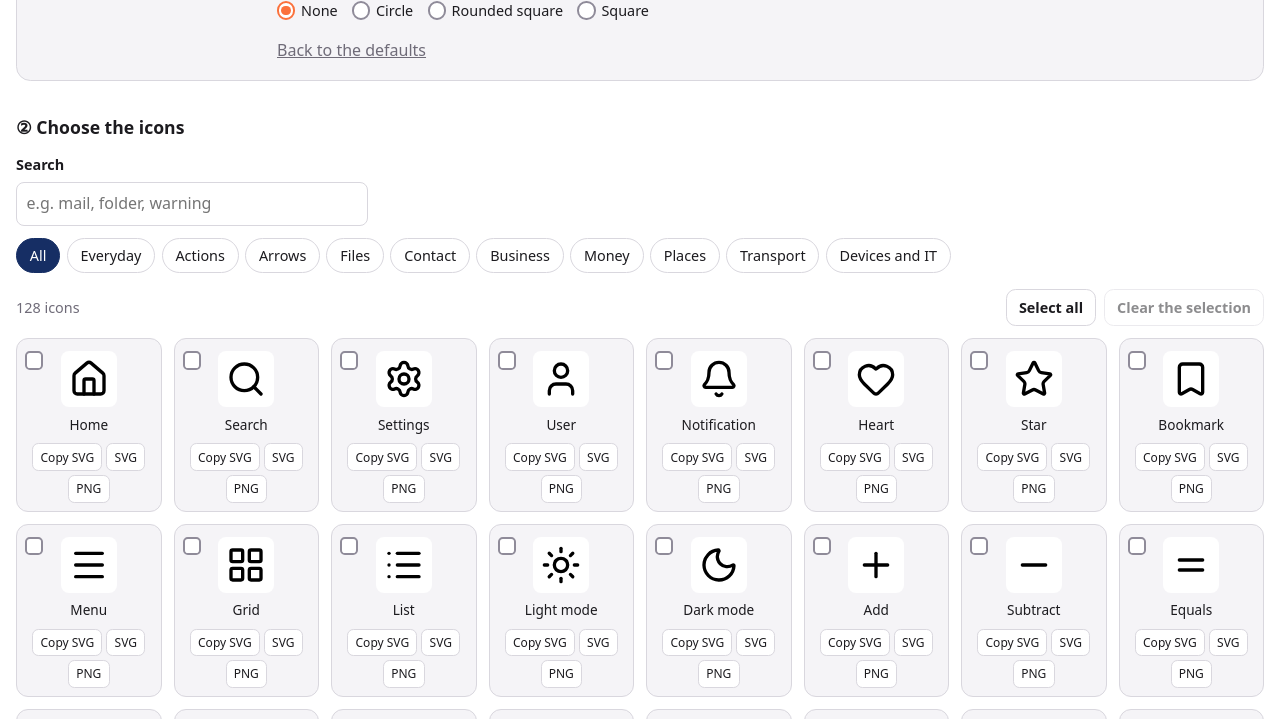
it: IconGeneratorTool › blocks the export when neither format is ticked
(page scrolled)
Click the checkbox labelled "Home" at (34, 360), box [25,351,43,370]
(page scrolled)
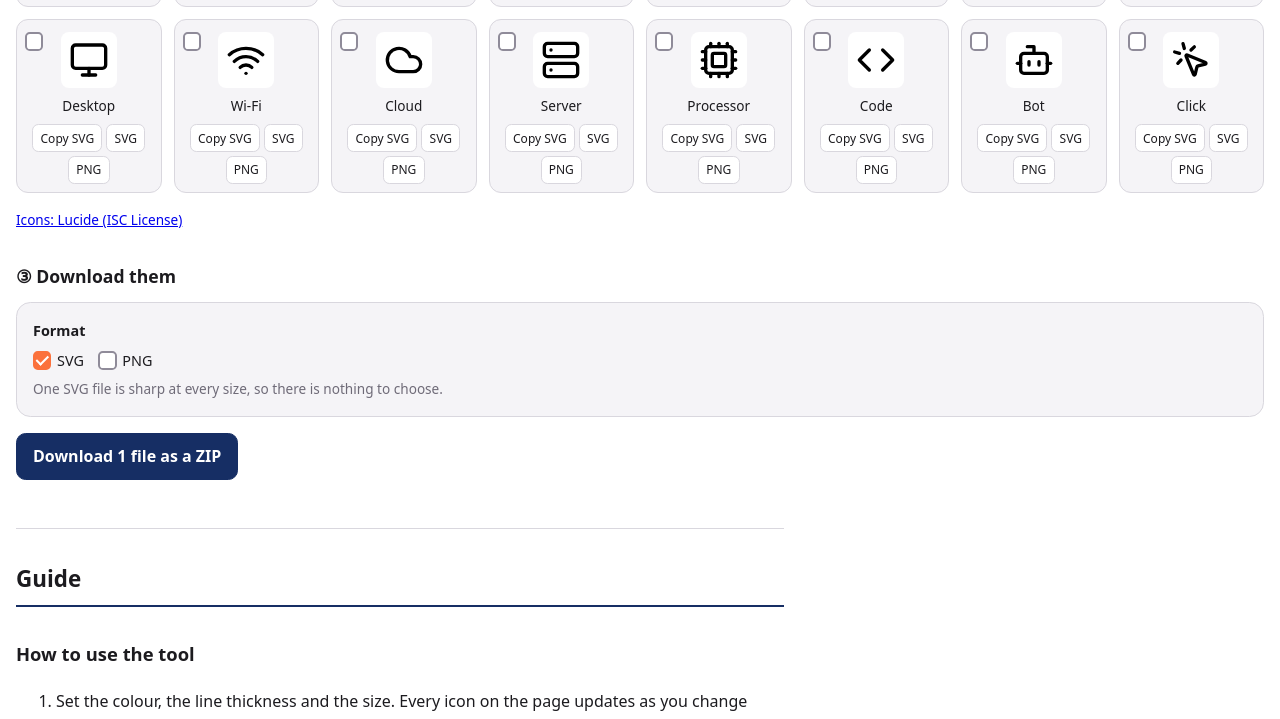
Click the checkbox labelled "SVG" at (42, 360), box [33,351,51,370]
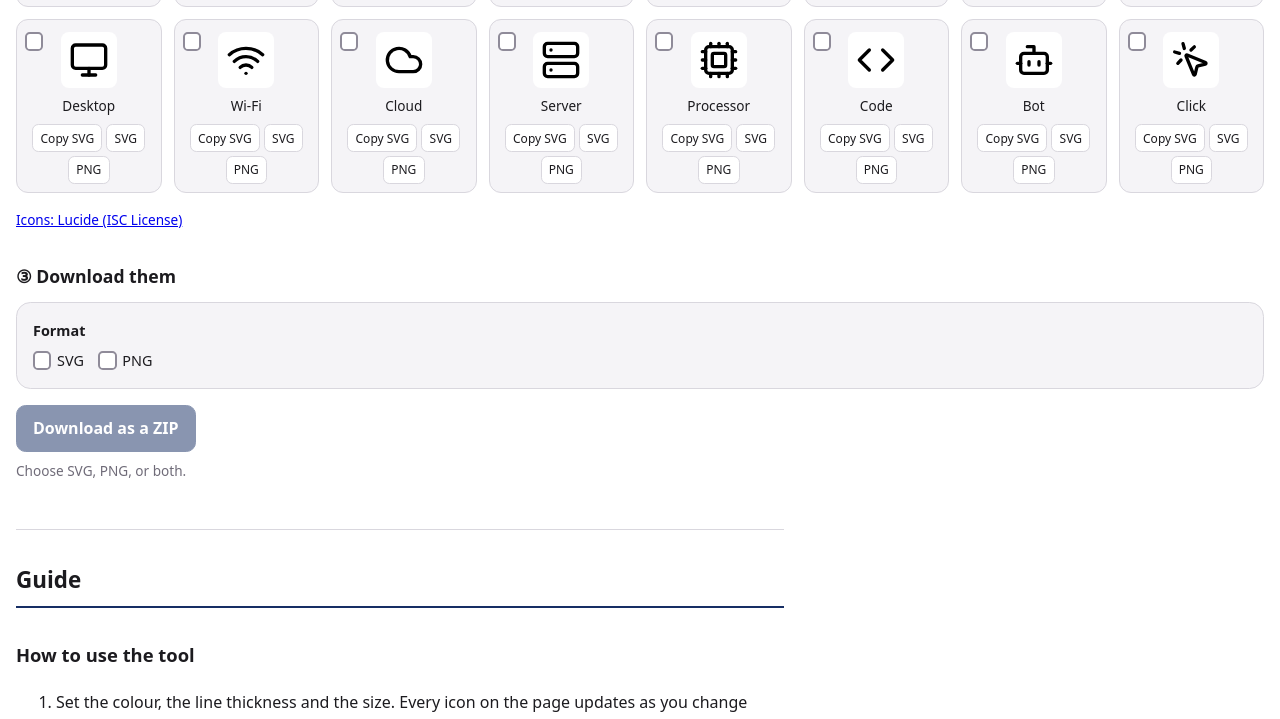
Now the button "Download as a ZIP" is disabled, box [16,405,196,452]
Now the text "Choose SVG, PNG, or both." is shown, box [16,460,186,482]
